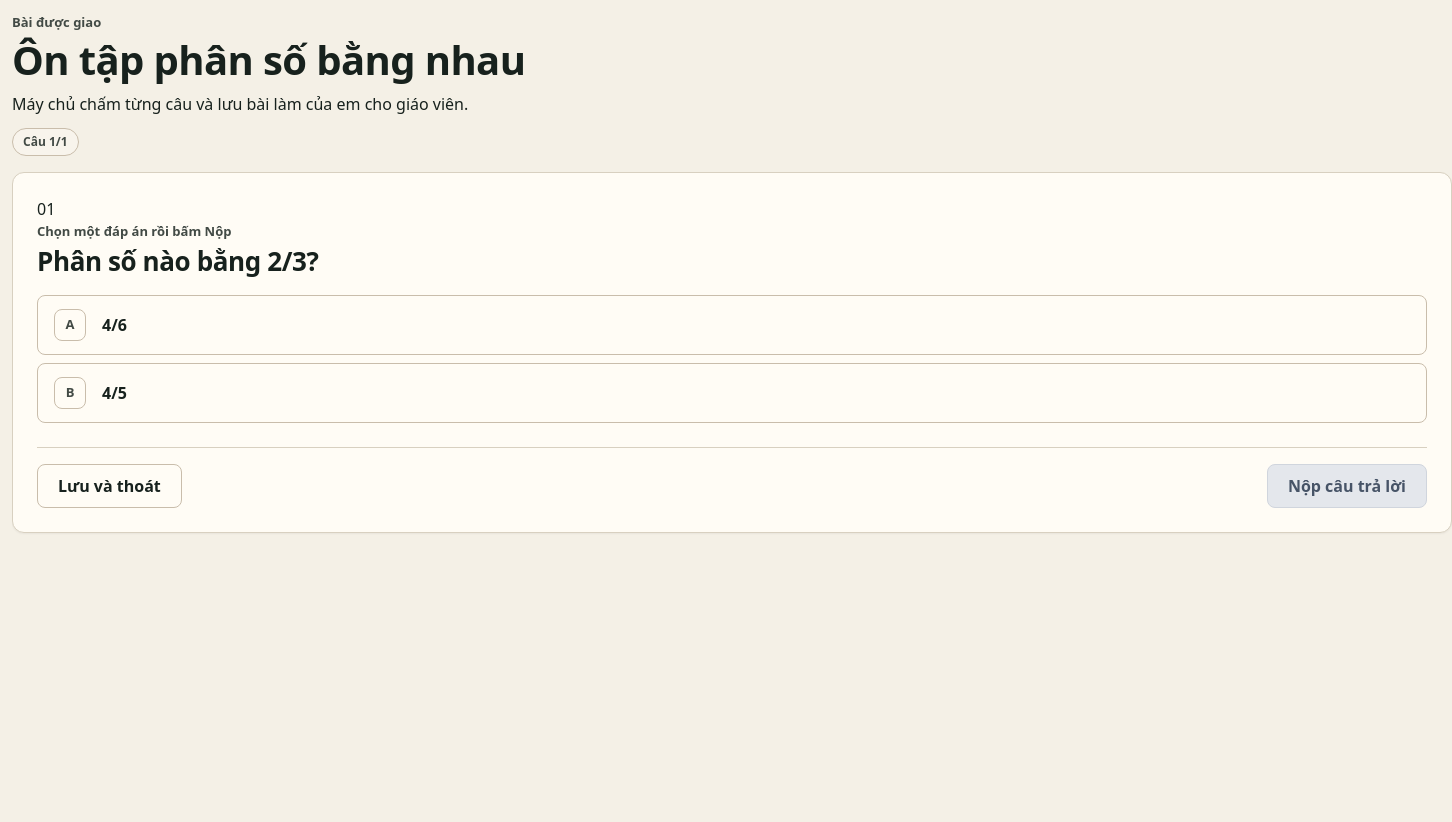
Test case: assigned-answer evidence loop › persists the server-confirmed answer before showing the next action
Click the radio button labelled "B 4/5" at (70, 393), box [37, 363, 1427, 423]
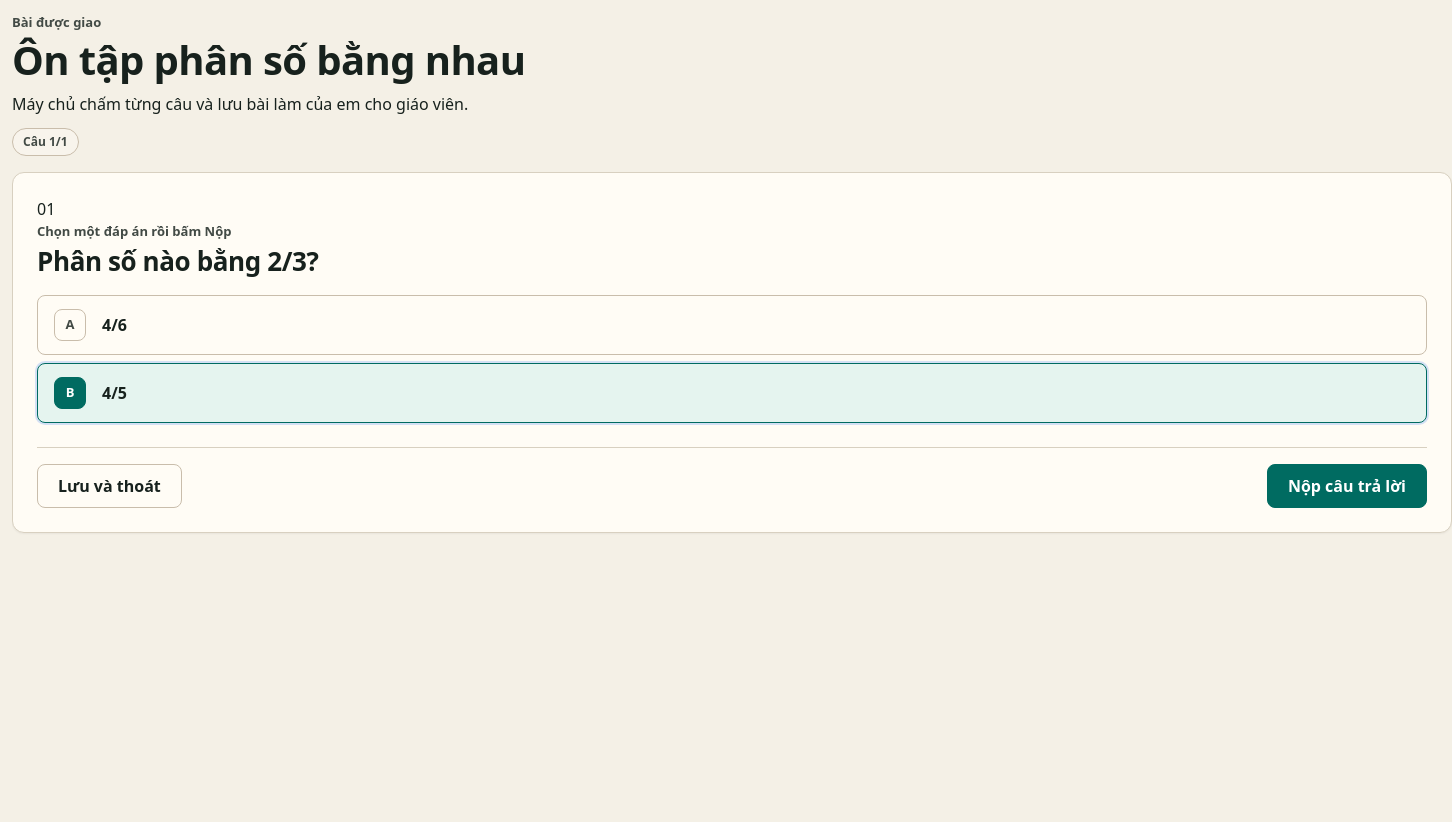
Click the button "Nộp câu trả lời" at (1347, 486), box [1267, 464, 1427, 508]
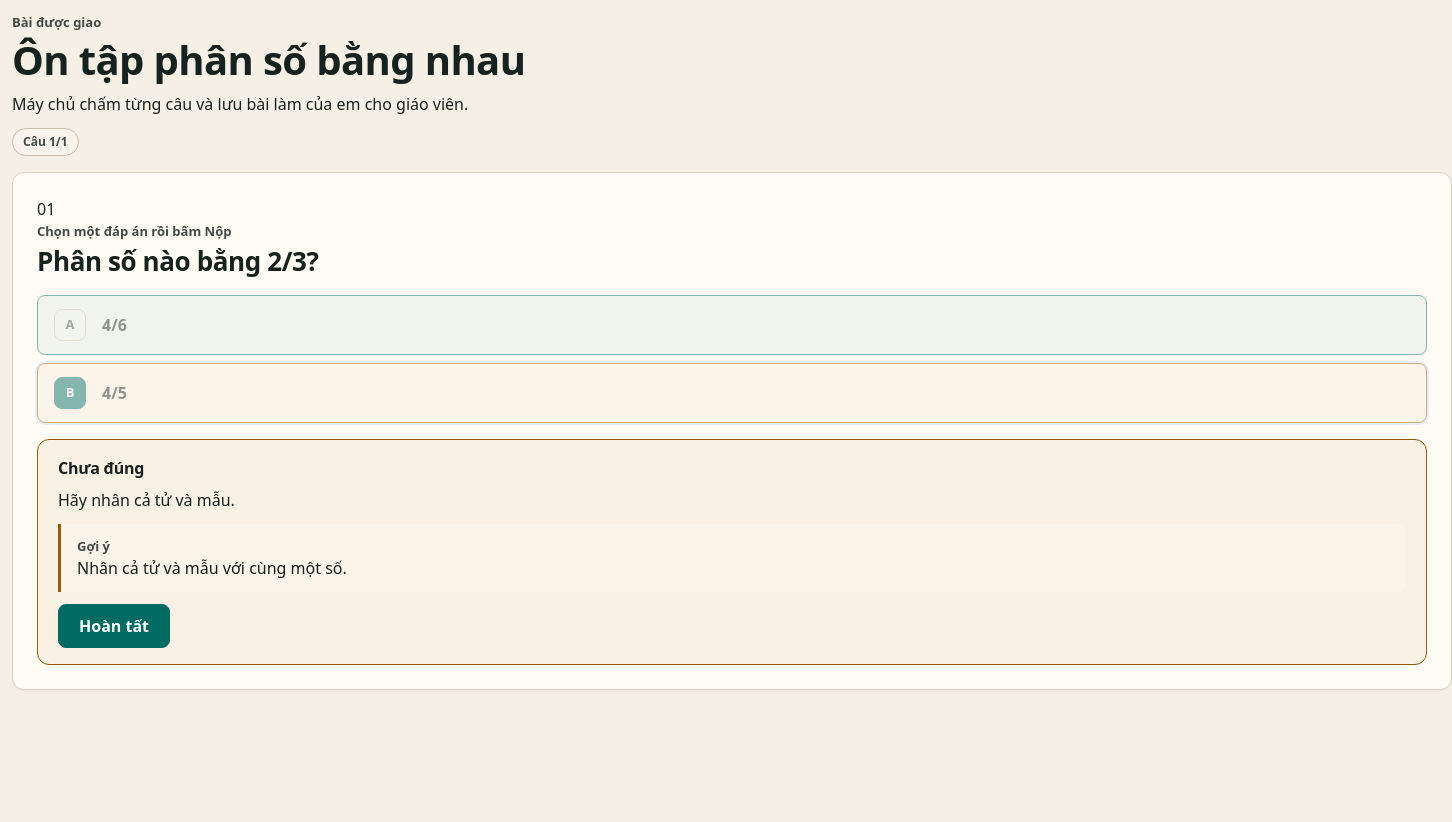
Now the heading "Chưa đúng" is shown, box [58, 457, 144, 479]
